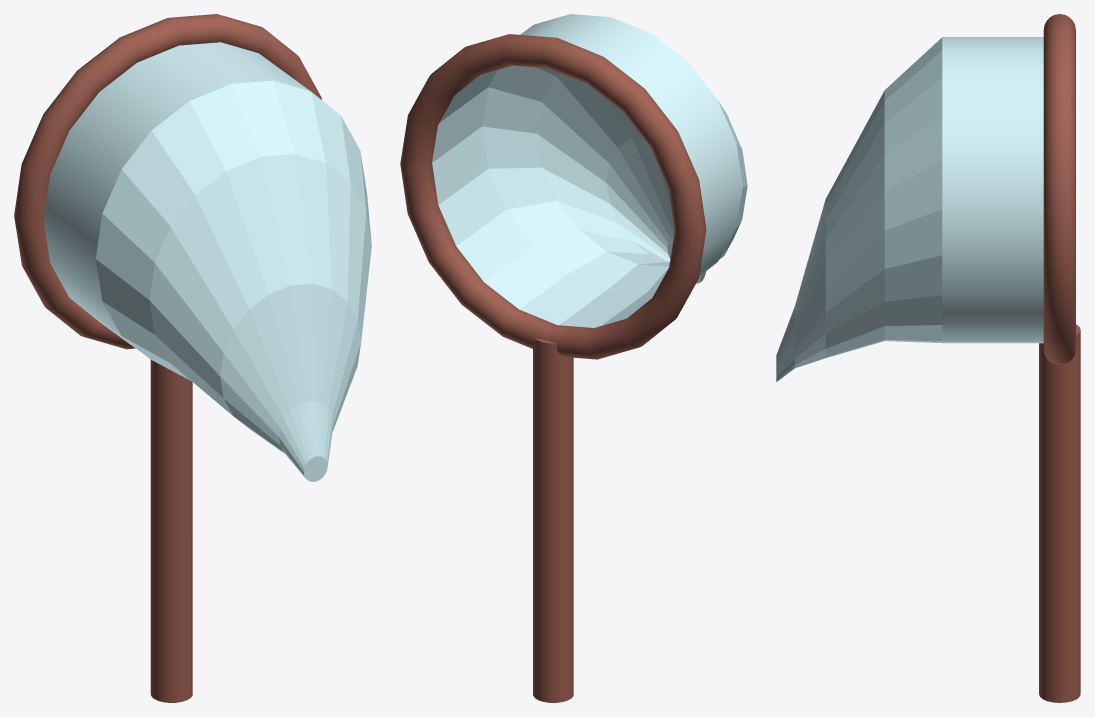
File: net.fbx
3 views of the same model, side by side, from view 1: azimuth 30°, elevation 25°; view 2: azimuth 150°, elevation 25°; view 3: azimuth 270°, elevation 25° (orthographic). The views are drawn at different scales.
Visible parts, largest first — view 1: polySurface3; view 2: polySurface3; view 3: polySurface3.
Boxes of the visible parts, left/top/right/bottom form: polySurface3: left=14, top=14, right=371, bottom=702; polySurface3: left=400, top=14, right=747, bottom=702; polySurface3: left=776, top=14, right=1080, bottom=702.
Size of the model in its own units: 1.98 by 4.11 by 1.71.
Materials: 2 (2 with a texture image).
